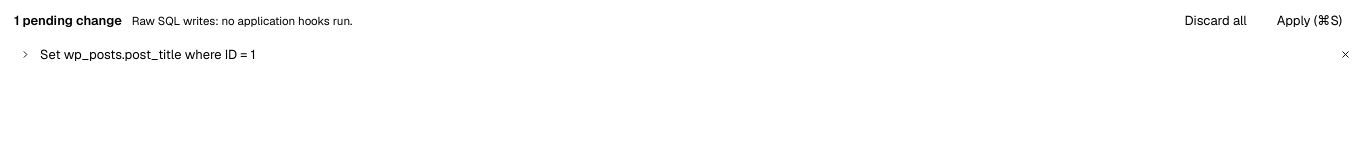
PendingTray › queueing › shows the planned description and its statements for a queued row edit
Expected: the text "1 pending change" is shown, [14,12,122,30]
Expected: the text "Set wp_posts.post_title where ID = 1" is shown, [40,46,256,64]
What coordinates should you click on to do the following:
click the button named "Show SQL"
I would click on:
 (23, 55)
Its box is [14,46,32,64].
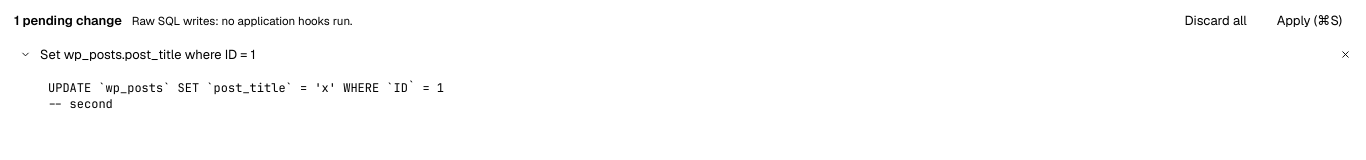
Expected: the list items read "UPDATE `wp_posts` SET `post_title` = 'x' WHERE `ID` = 1", "-- second", in this order, [48,80,444,96]; [48,96,113,112]
